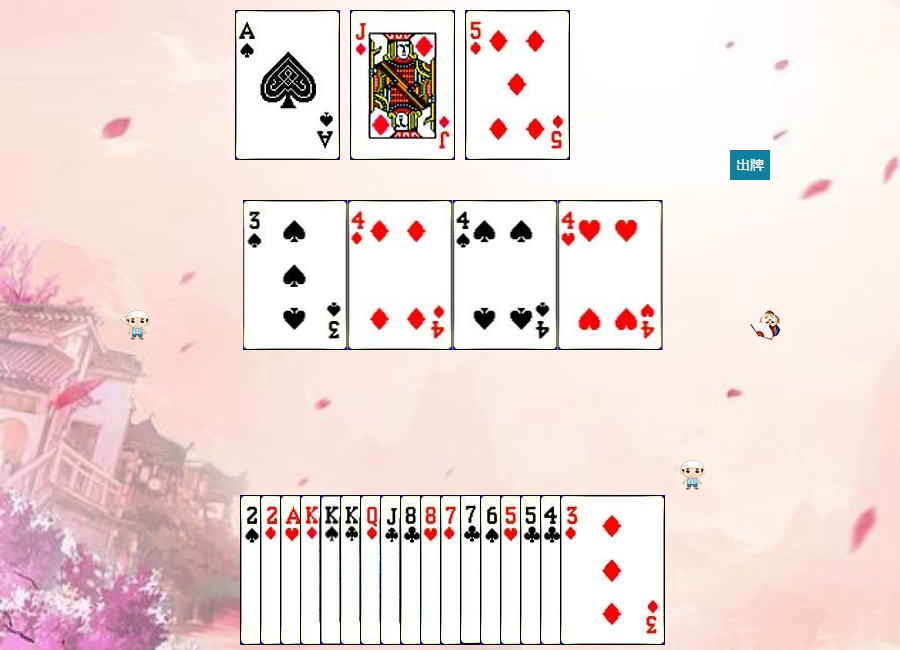11~1: (350, 10, 455, 160)
11~2: (380, 495, 485, 645)
12~1: (360, 495, 465, 645)
13~1: (300, 495, 405, 645)
13~2: (340, 495, 445, 645)
13~4: (320, 495, 425, 645)
14~3: (280, 495, 385, 645)
14~4: (235, 10, 340, 160)
15~1: (260, 495, 365, 645)
15~4: (240, 495, 345, 645)
3~1: (560, 495, 665, 645)
3~4: (243, 200, 348, 350)
4~1: (348, 200, 453, 350)
4~2: (540, 495, 645, 645)
4~3: (558, 200, 663, 350)
4~4: (453, 200, 558, 350)
5~1: (465, 10, 570, 160)
5~2: (520, 495, 625, 645)
5~3: (500, 495, 605, 645)
6~4: (480, 495, 585, 645)
7~1: (440, 495, 545, 645)
7~2: (460, 495, 565, 645)
8~2: (400, 495, 505, 645)
8~3: (420, 495, 525, 645)
